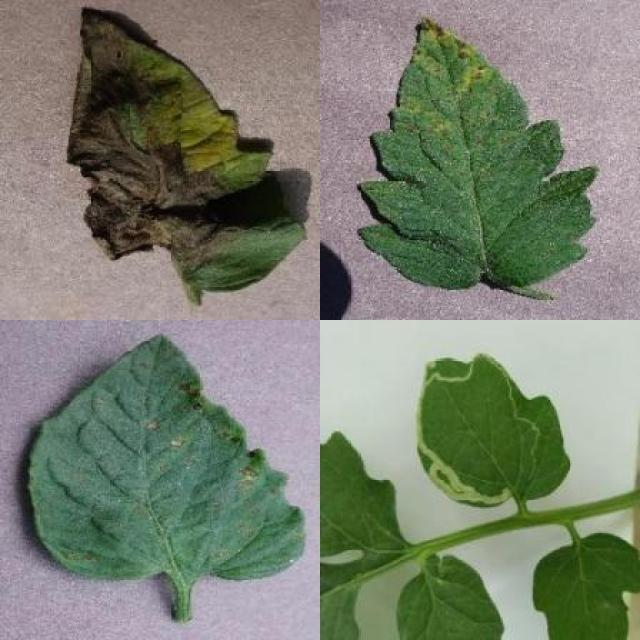Late Blight: (65, 6, 312, 296)
Leaf Miner: (415, 355, 572, 509)
Septoria: (29, 335, 307, 585), (358, 14, 601, 289)
